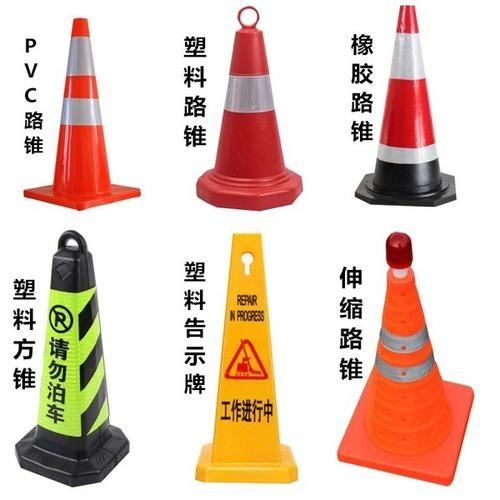cone_barrel: (18, 230, 133, 477), (345, 233, 458, 459), (196, 245, 298, 480), (199, 22, 302, 211), (358, 9, 451, 206), (39, 19, 124, 212)
